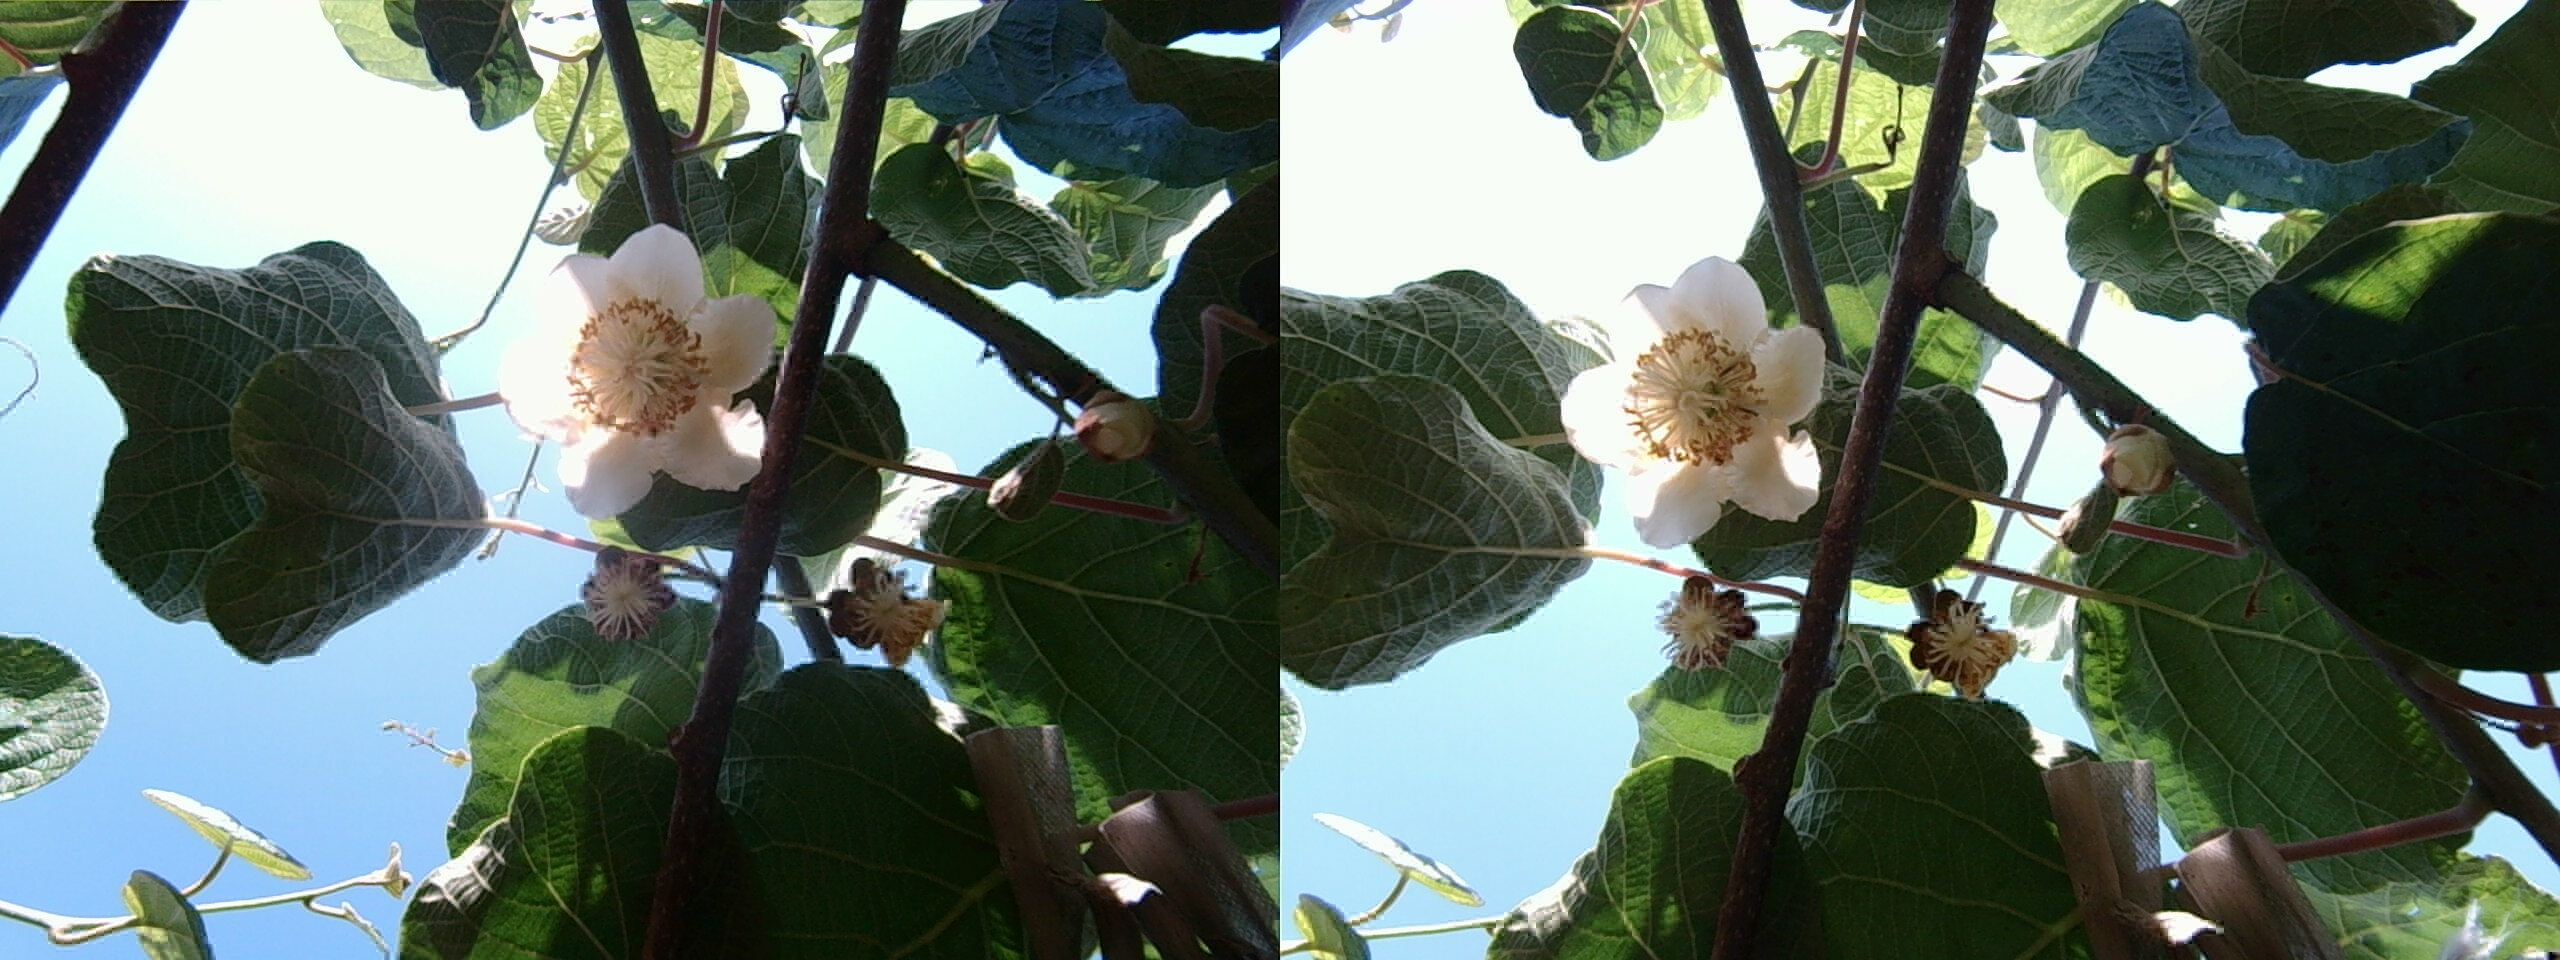flower: (1561, 245, 1822, 539), (504, 219, 766, 506)
